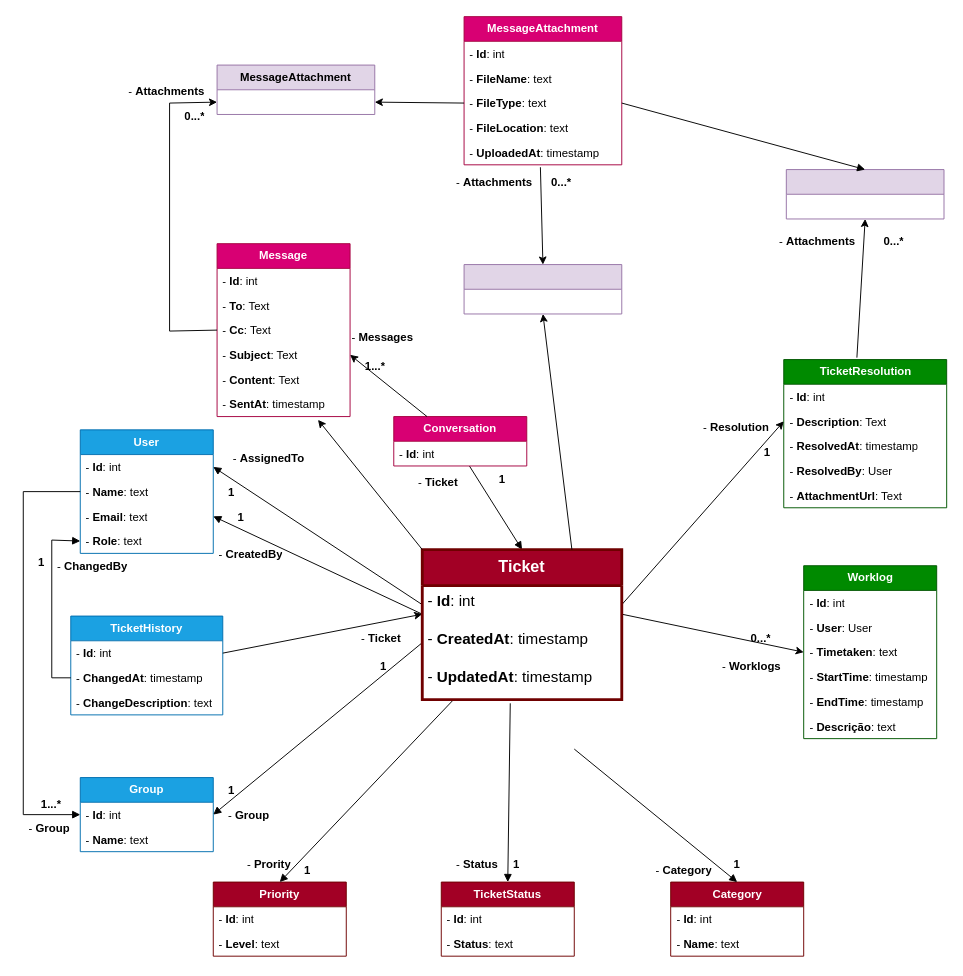
This 963x976 diagram has some shape labels left out. Here are the shapes that lost their labels. From the top down, the centre of each, then its label:
At (x=864, y=194): "ResolutionAttachment".
At (x=542, y=289): "TicketAttachment".
